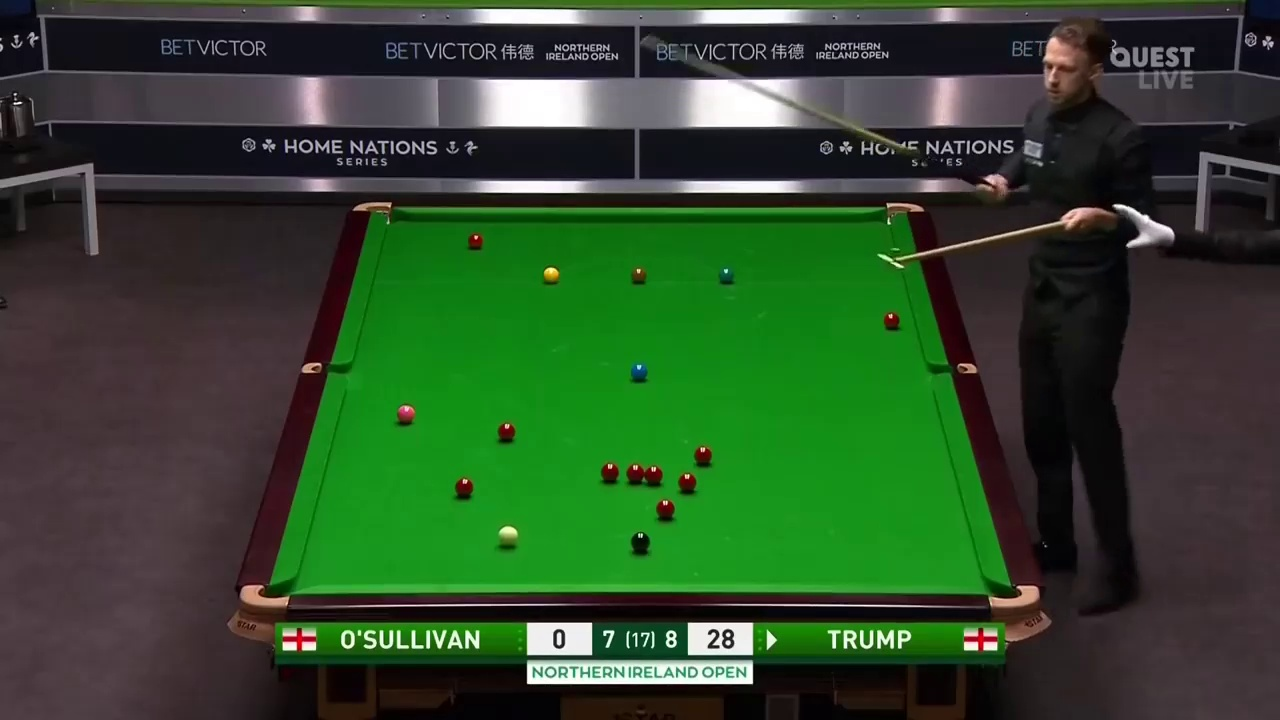black: (631, 532, 650, 555)
blue: (631, 362, 646, 380)
brown: (631, 264, 646, 285)
green: (717, 267, 736, 284)
pink: (396, 404, 413, 422)
red: (452, 478, 475, 497), (599, 463, 618, 485), (496, 423, 516, 442), (883, 309, 900, 330), (657, 498, 675, 517), (677, 473, 695, 492), (645, 467, 662, 487), (695, 447, 711, 467), (467, 229, 483, 248), (629, 461, 642, 480)
white: (495, 527, 521, 549)
yellow: (543, 265, 559, 285)
